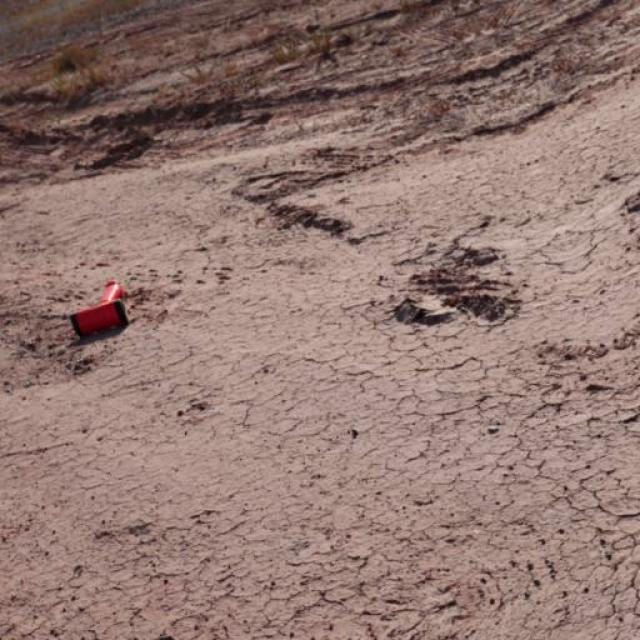mallet: (71, 279, 131, 339)
